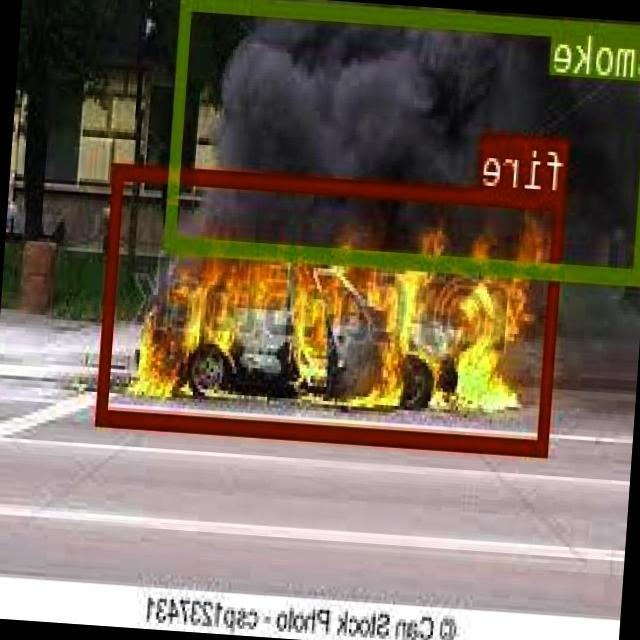fire: (99, 160, 568, 454)
smoke: (165, 0, 640, 281)
